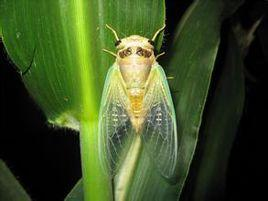Cicadellidae: (98, 25, 178, 179)
